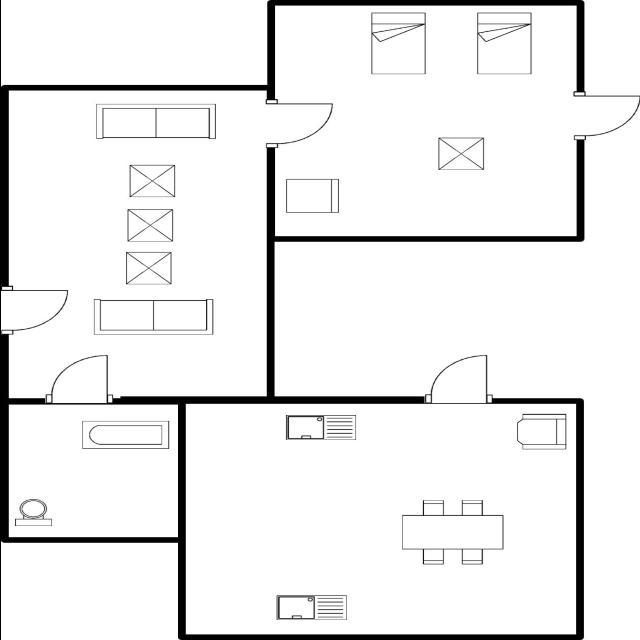armchair: (511, 410, 570, 454)
bed: (470, 9, 534, 77), (368, 8, 428, 78)
coffee_table: (120, 205, 176, 245), (120, 248, 176, 288), (124, 160, 180, 199), (433, 134, 489, 172)
dining_table: (394, 496, 508, 568)
large_sink: (12, 496, 56, 532)
large_sofa: (88, 295, 220, 339), (90, 99, 220, 143)
sink: (268, 590, 352, 622), (280, 412, 359, 444)
small_sofa: (280, 175, 342, 217)
tub: (76, 416, 172, 452)
